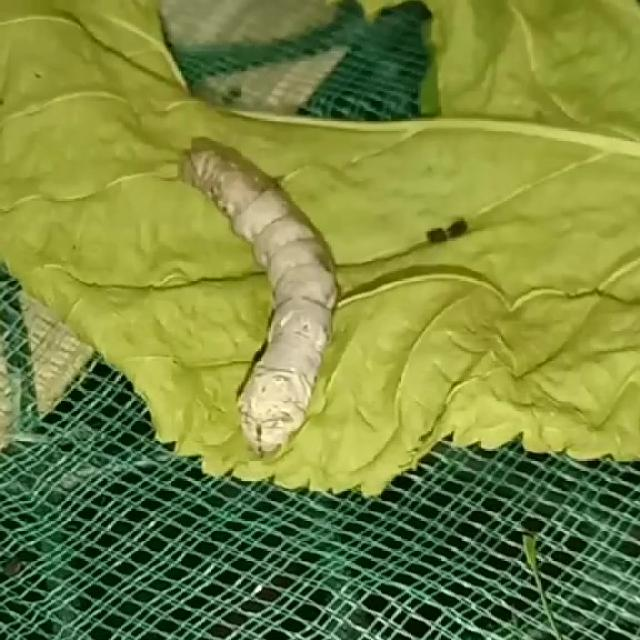Grasserie: (139, 93, 387, 498)
